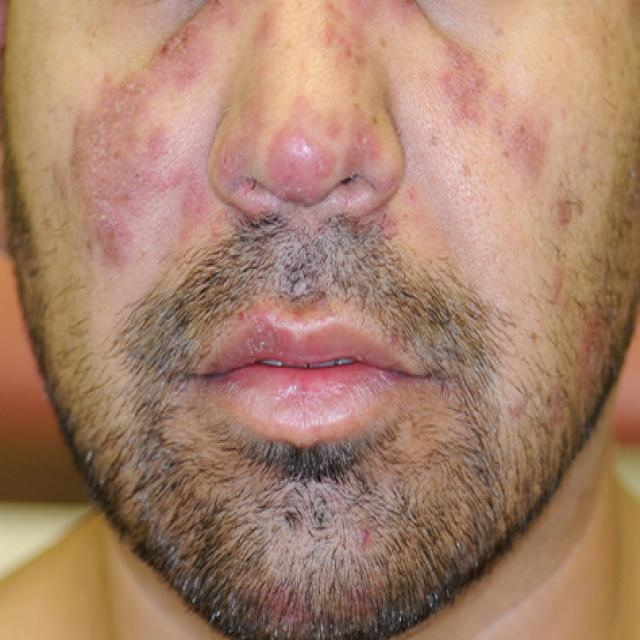lupus: (53, 4, 572, 242)
